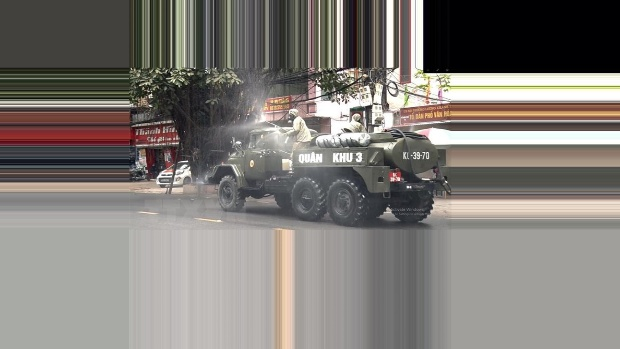plate: (384, 169, 403, 185)
